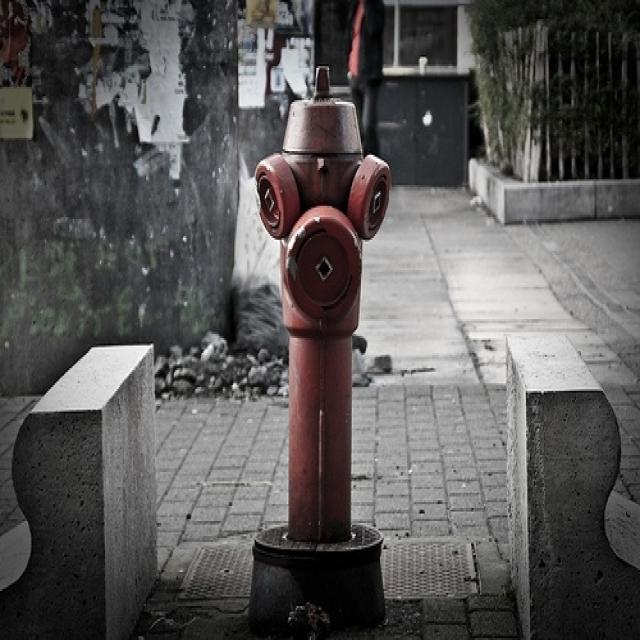fire_hydrant: (236, 67, 397, 576)
